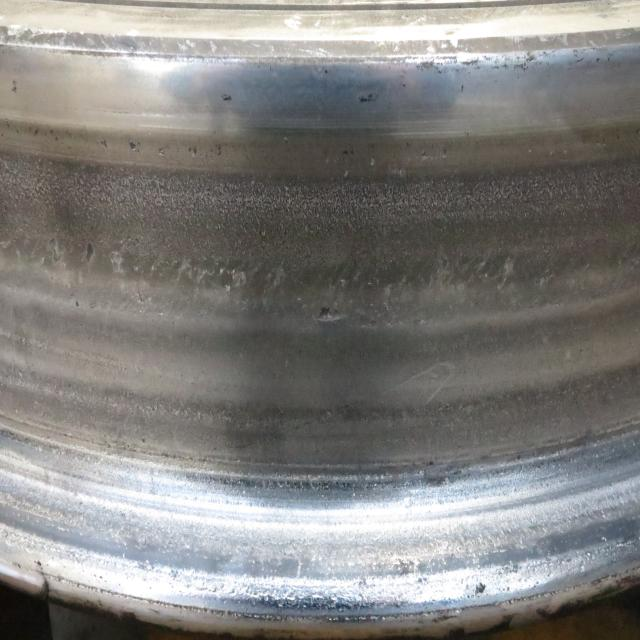Blue hole: (84, 244, 97, 264)
Peeling: (319, 304, 348, 323), (52, 238, 63, 266)
